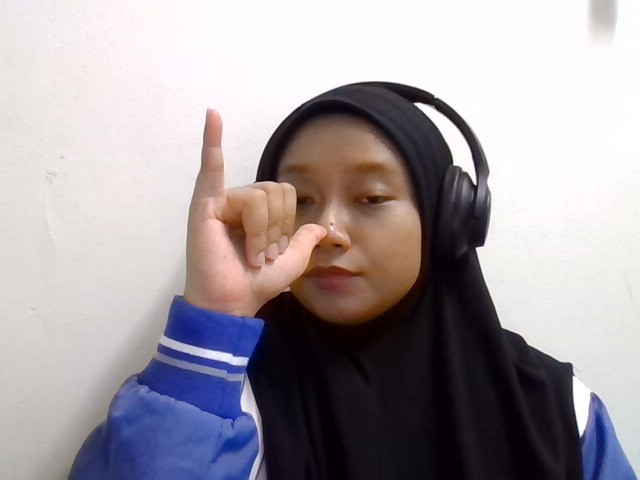BadakSumbu: (185, 108, 369, 305)
